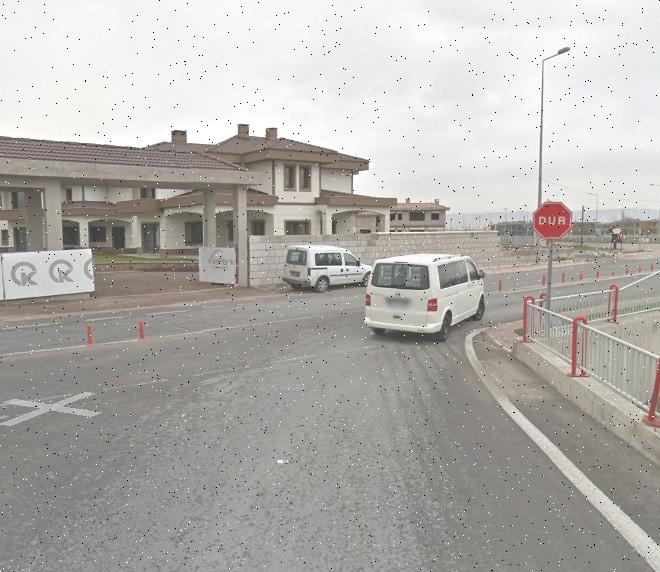stop: (530, 203, 573, 240)
